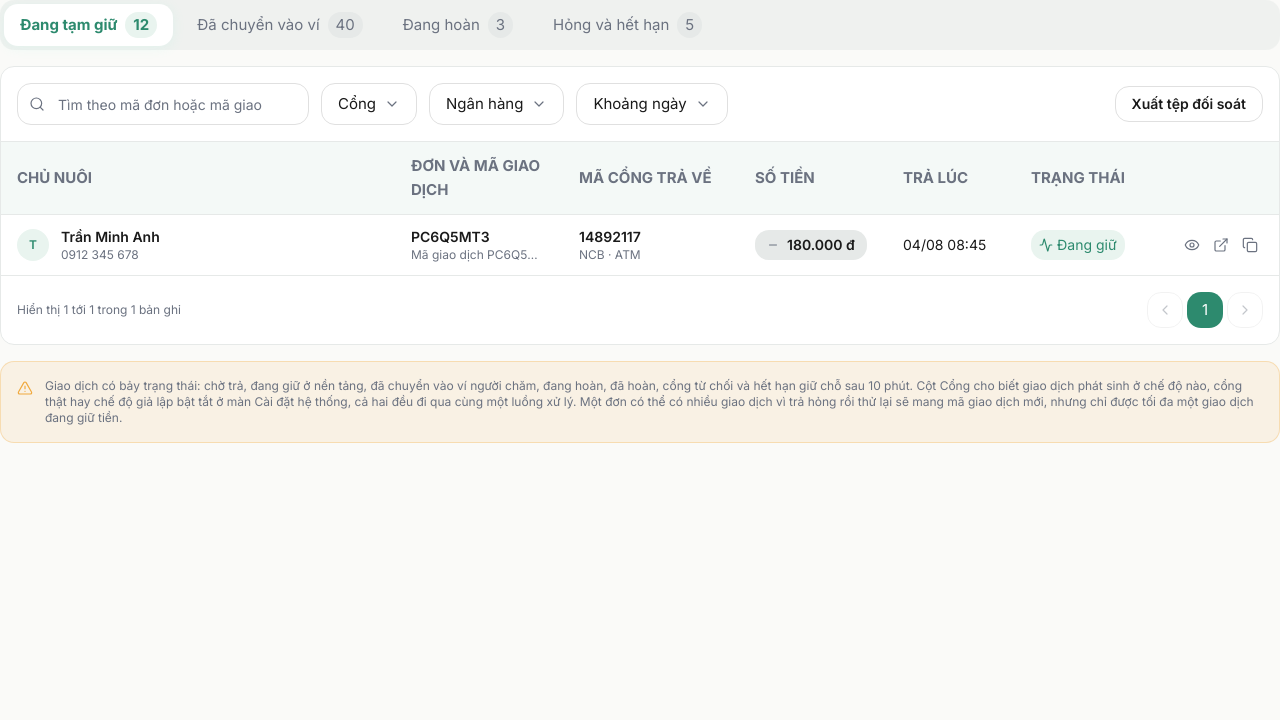
Scenario: Giao dịch thanh toán › cột rawReturn là Json nên cổng trả đối tượng, hộp thoại vẫn đọc được
Expected: the text "Trần Minh Anh" is shown, top-left (61, 227), bottom-right (160, 247)
Click the button named "Xem dữ liệu cổng trả về": click(1192, 245) top-left (1179, 229), bottom-right (1204, 261)
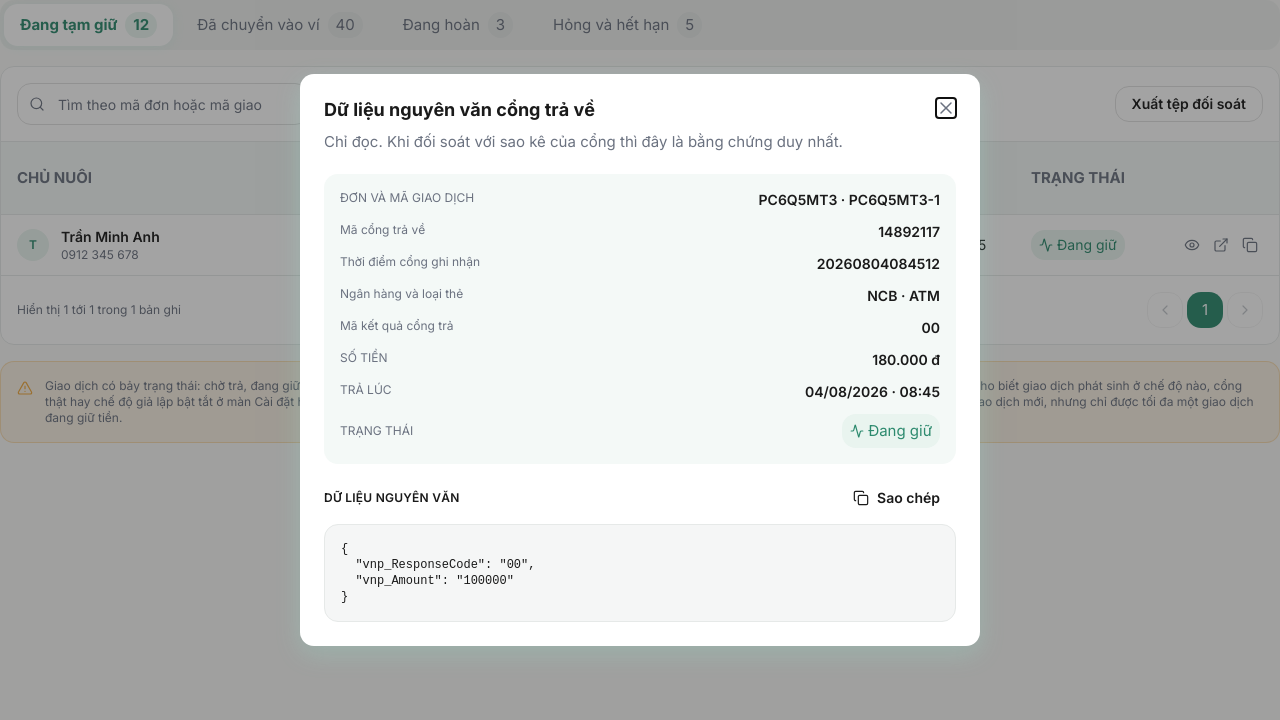
Result: the text "{ \"vnp_ResponseCode\": \"00\", \"vnp_Amount\": \"100000\" }" is shown at top-left (324, 524), bottom-right (956, 622)
